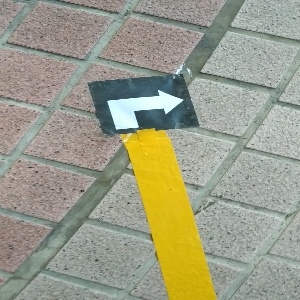right: (87, 74, 200, 131)
